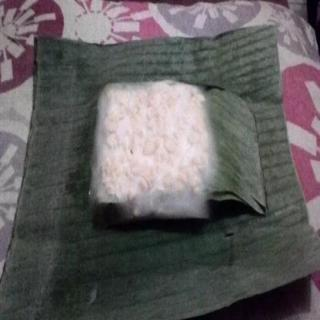Tempe: (89, 79, 217, 225)
